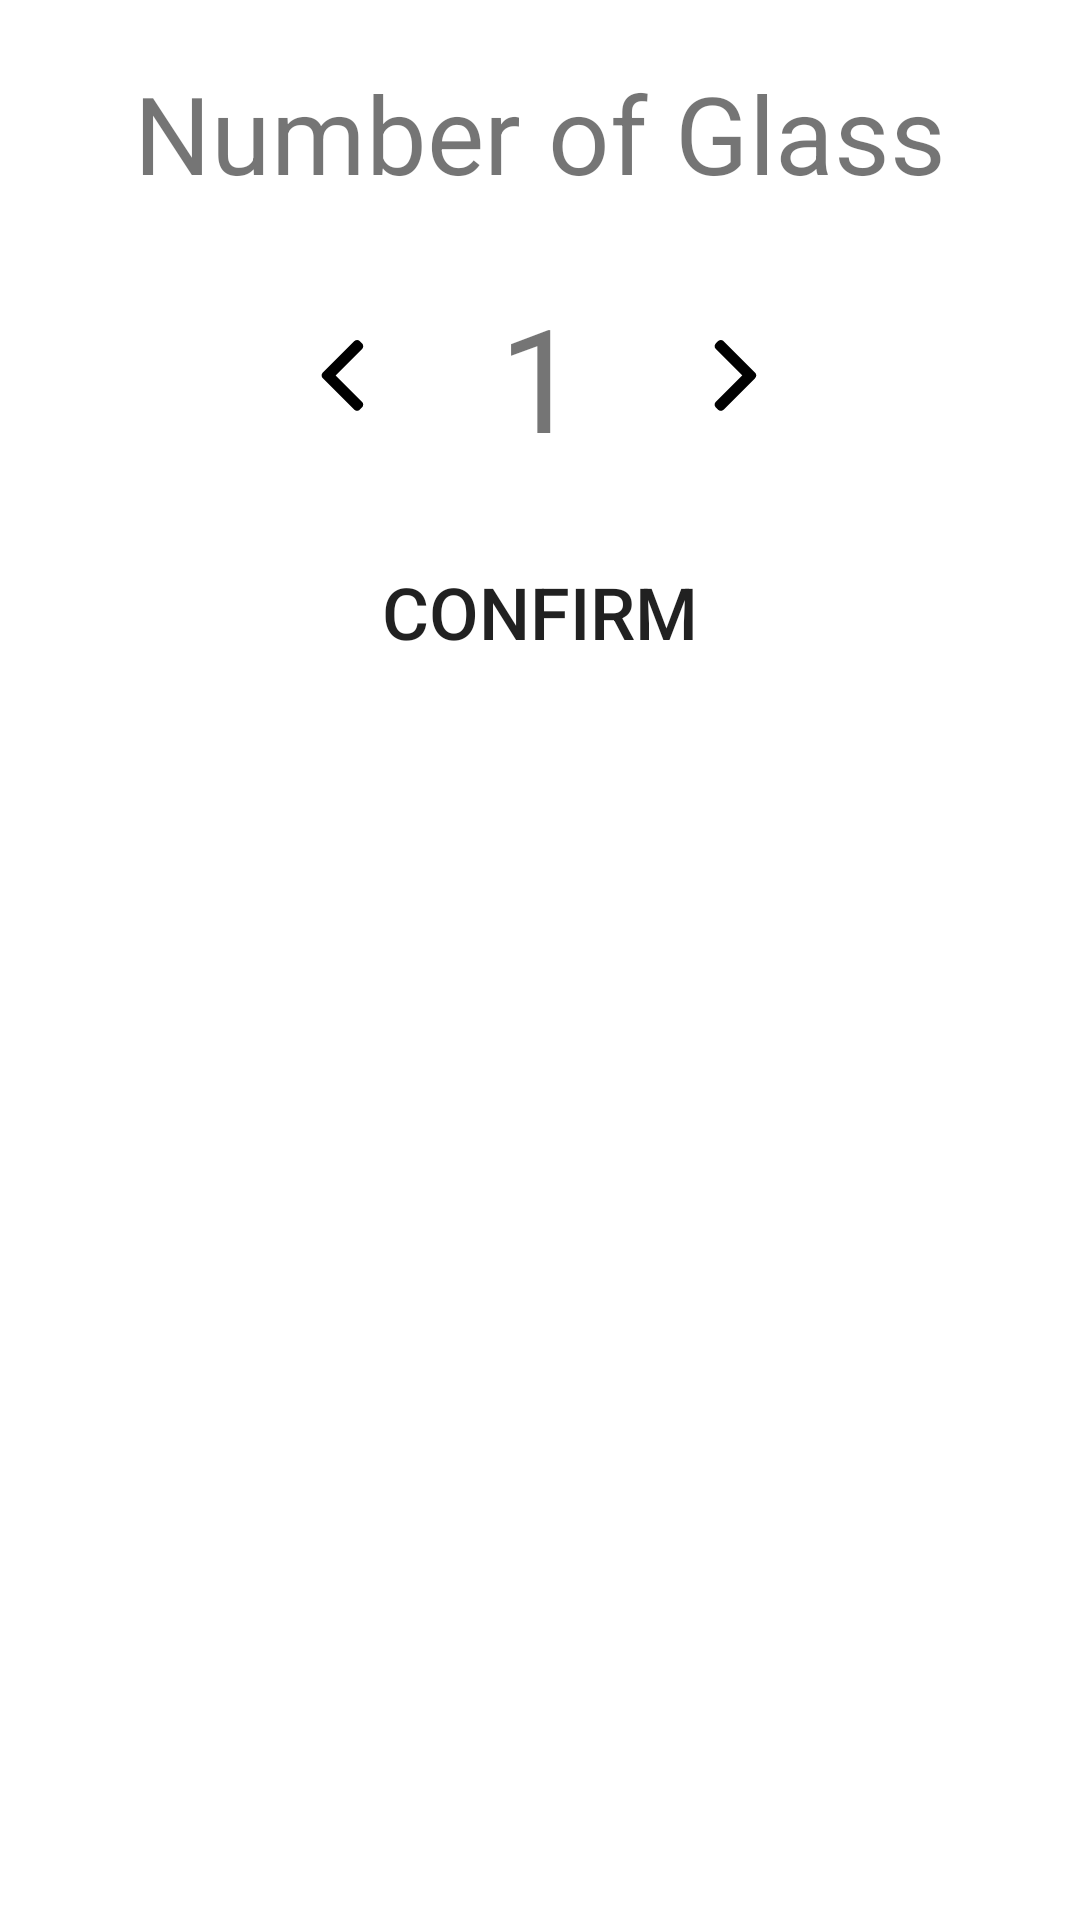

Locate icon controls on the screen. Image size 1080 x 1920, boxes as [left=x1, top=y1, right=x2, bottom=y2].
left arrow: [left=321, top=340, right=364, bottom=411]
right arrow: [left=714, top=340, right=757, bottom=411]
